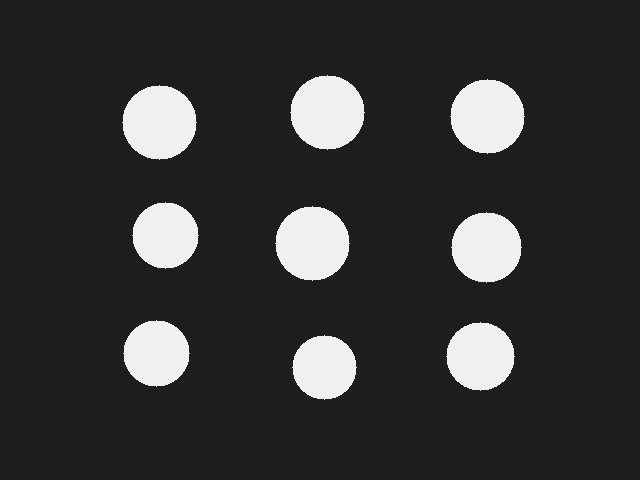hole: (122, 85, 196, 159), (290, 75, 364, 149), (450, 79, 524, 153), (275, 206, 349, 280), (451, 212, 521, 282), (446, 322, 514, 390), (132, 202, 198, 268), (123, 320, 189, 386), (292, 335, 356, 399)
